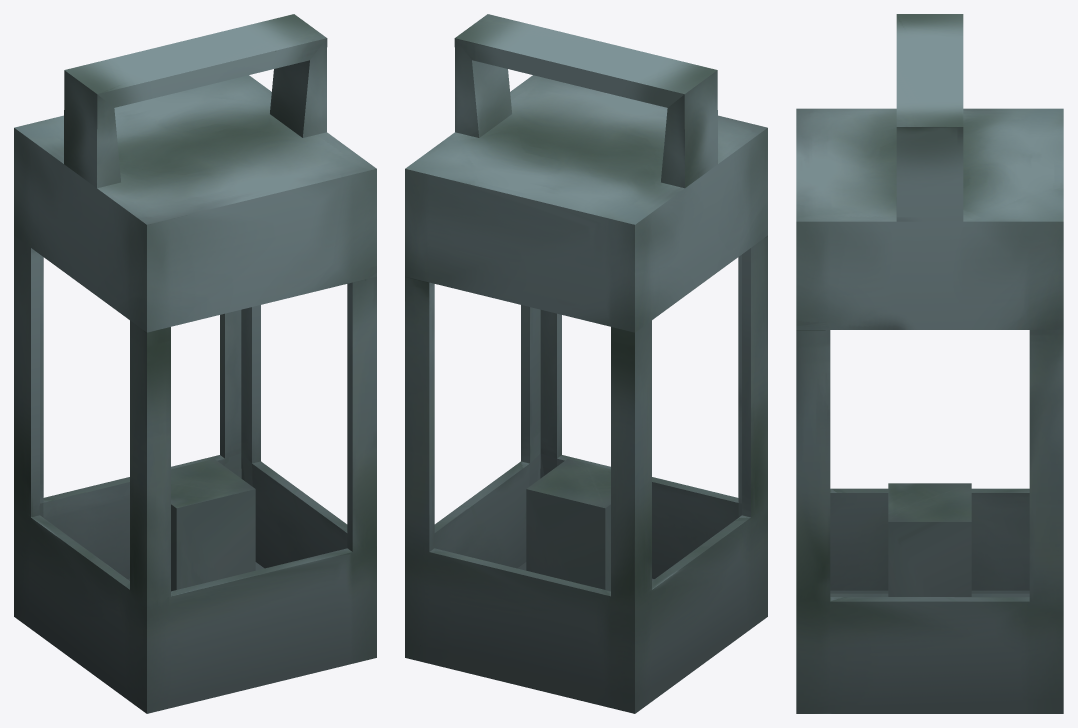
The model's file is hand_candle.obj.
3 views of the same model, side by side, from view 1: azimuth 30°, elevation 25°; view 2: azimuth 150°, elevation 25°; view 3: azimuth 270°, elevation 25° (orthographic).
Parts seen in each view (by area): view 1: Lampara_Cube.007; view 2: Lampara_Cube.007; view 3: Lampara_Cube.007.
Boxes of the visible parts, bbox=[...] form: Lampara_Cube.007: bbox=[14, 14, 376, 713]; Lampara_Cube.007: bbox=[405, 14, 767, 713]; Lampara_Cube.007: bbox=[796, 14, 1063, 713].
Bounding box in the file's own units: 0.2359 × 0.5711 × 0.2357.
